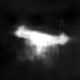plane: (11, 23, 73, 63)
